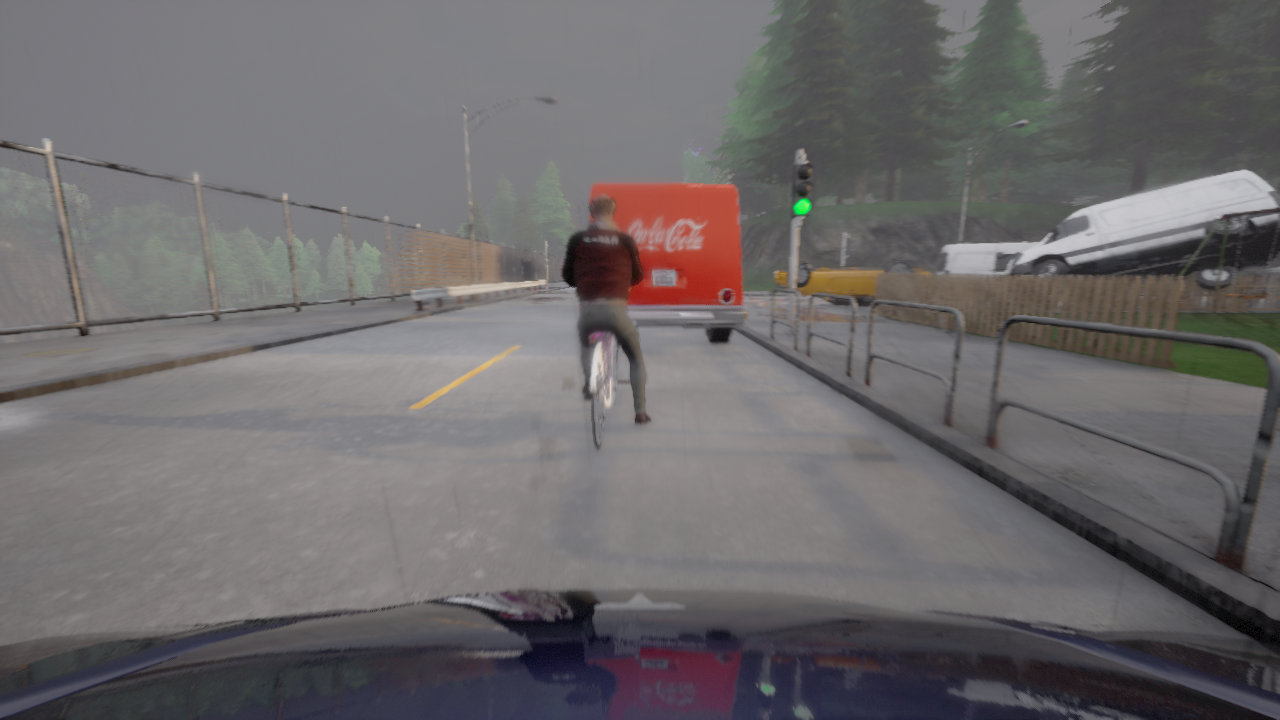cyclist: (0, 588, 1279, 719), (1007, 170, 1279, 307), (589, 184, 747, 342), (775, 259, 932, 306), (584, 332, 629, 449), (937, 242, 1037, 291), (1234, 266, 1279, 302), (988, 296, 989, 297)
pedestrian: (1186, 272, 1194, 305)
